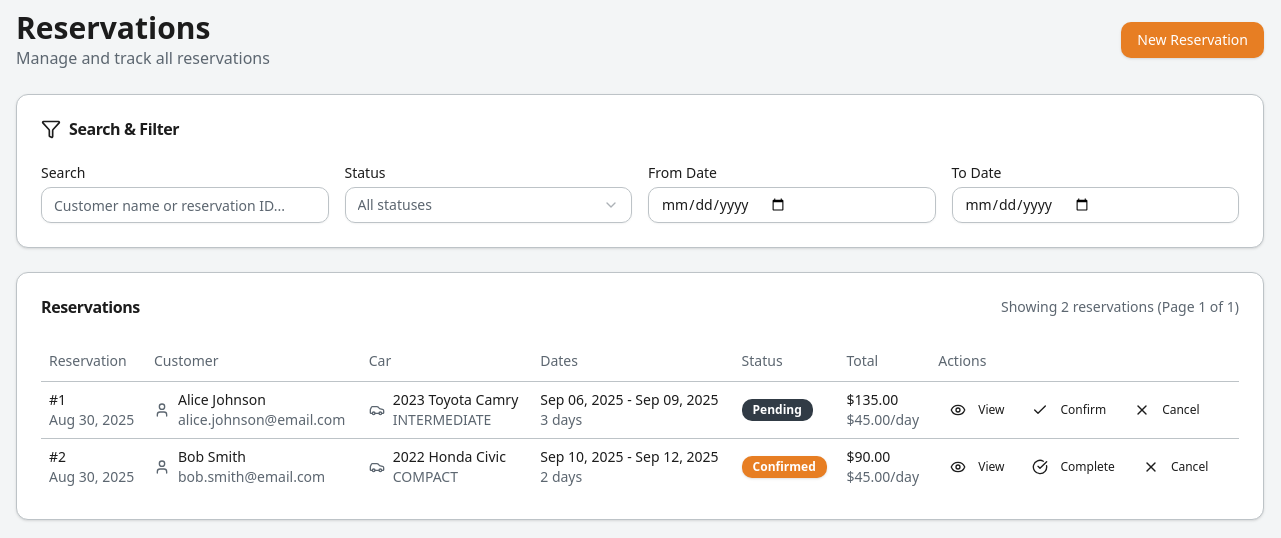
Test case: ReservationsPage › clears filters when clear button is clicked
Check: the text "Alice Johnson" is shown, box [178,390,266,408]
// Set some filters first - use date filter which doesn't have debouncing
Type "2024-01-01" into the date field labelled "From Date" at (792,205), box [648,187,936,223]
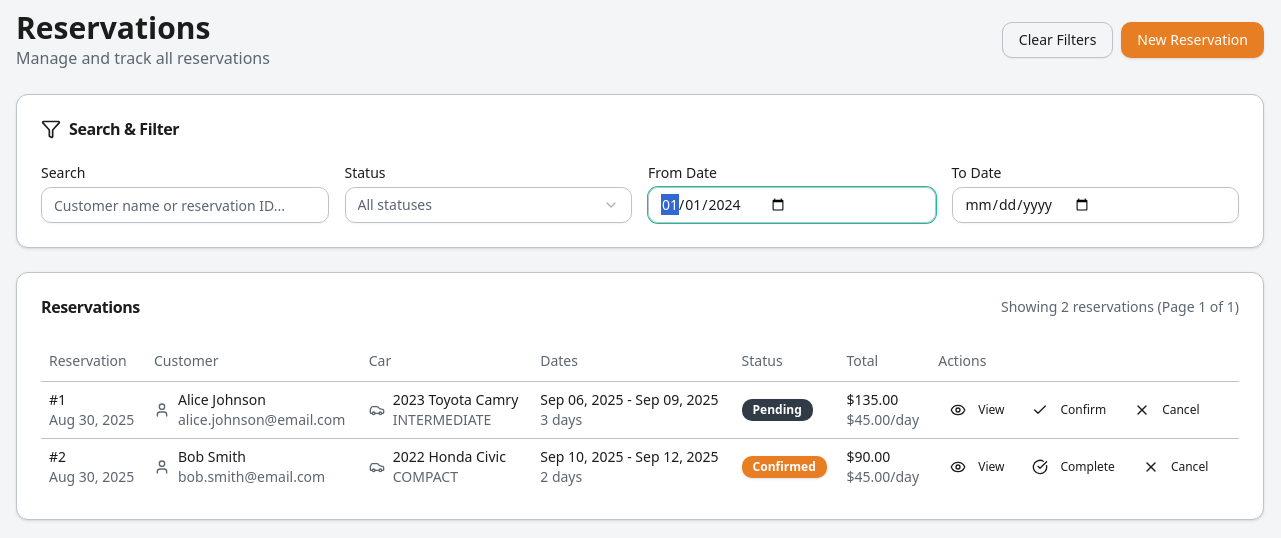
Check: the button "Clear Filters" is shown
Click the button "Clear Filters" at (1058,40), box [1002,22,1113,58]
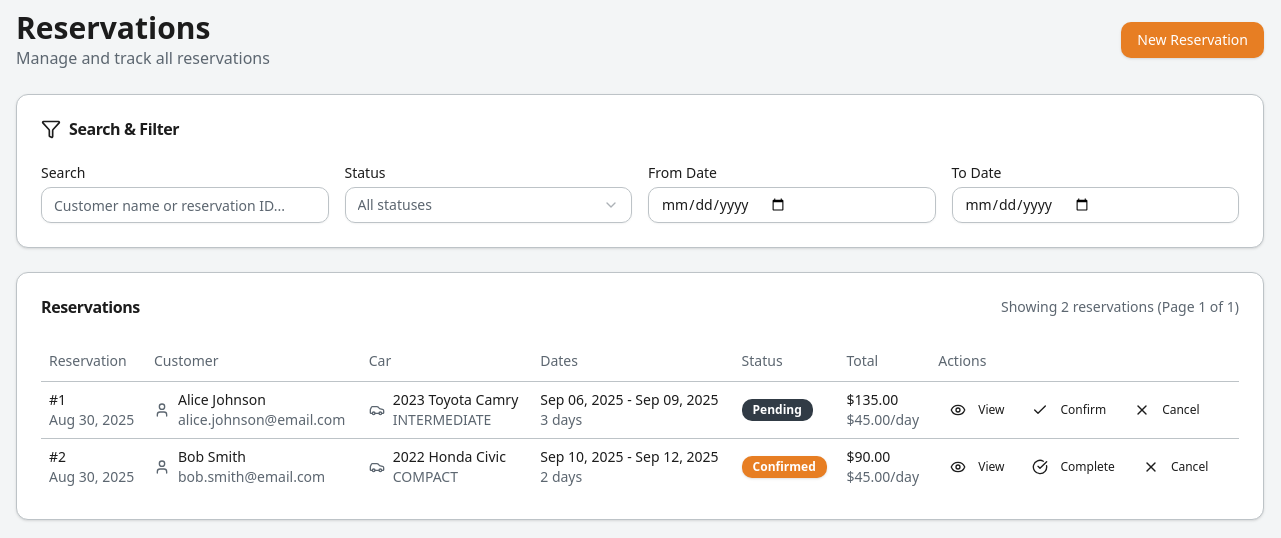
Check: the date field labelled "From Date" is empty, box [648,187,936,223]
